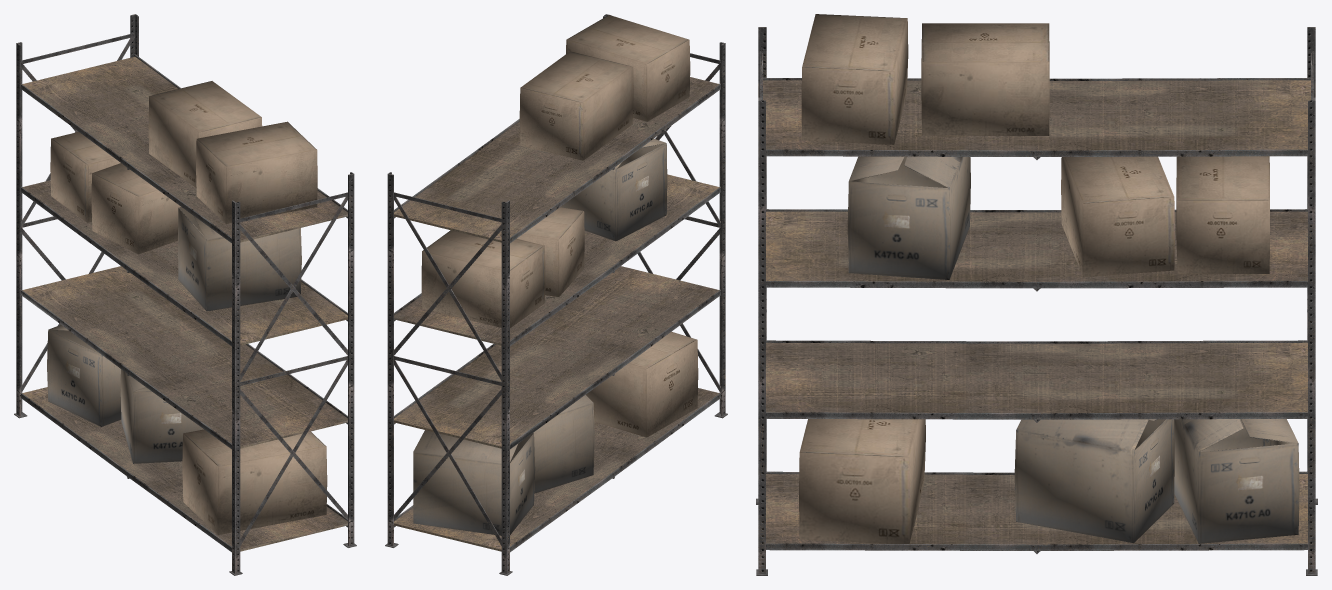
The picture shows the model from 3 angles, left to right: view 1: azimuth 30°, elevation 25°; view 2: azimuth 150°, elevation 25°; view 3: azimuth 270°, elevation 25°; orthographic projection. The views are drawn at different scales.
Parts seen in each view (by area): view 1: shelves_ind (×9), cardbox_s (×5), Group_10 (×3); view 2: shelves_ind (×9), cardbox_s (×5), Group_10 (×3); view 3: shelves_ind (×5), cardbox_s (×5), Group_10 (×3).
Part boxes in pixels (x1=…): shelves_ind (×9): x1=16, y1=14, x2=354, y2=573; cardbox_s (×5): x1=50, y1=81, x2=327, y2=534; Group_10 (×3): x1=47, y1=207, x2=301, y2=463; shelves_ind (×9): x1=387, y1=14, x2=725, y2=573; cardbox_s (×5): x1=421, y1=15, x2=698, y2=437; Group_10 (×3): x1=413, y1=138, x2=667, y2=535; shelves_ind (×5): x1=758, y1=27, x2=1315, y2=573; cardbox_s (×5): x1=799, y1=14, x2=1269, y2=543; Group_10 (×3): x1=847, y1=156, x2=1299, y2=543.
Size of the model in its own units: 66.32 by 207 by 201.
Materials: 3 (3 with a texture image).
